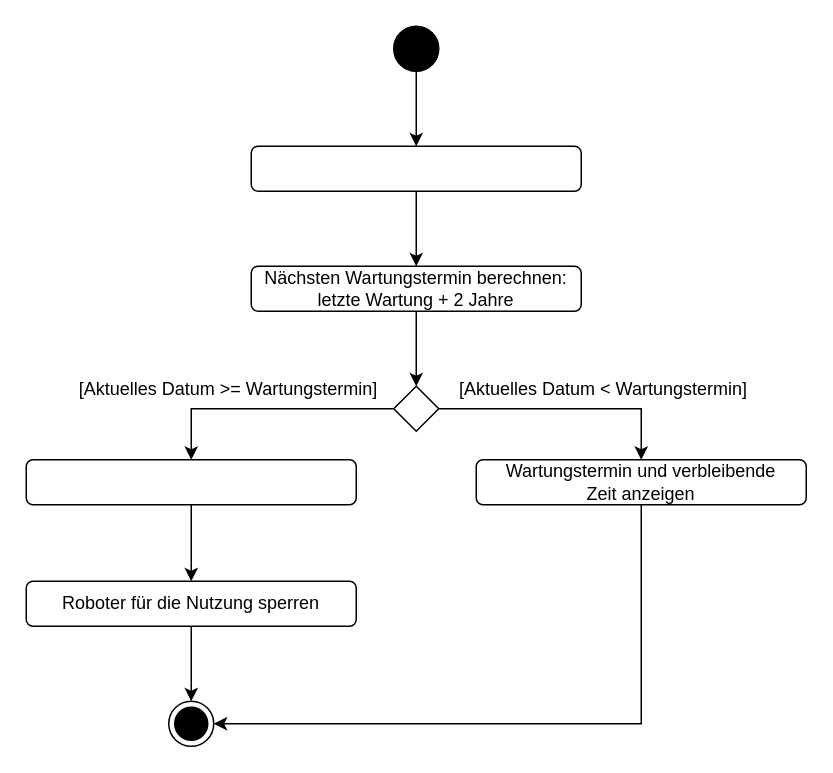
Image size: 833x773. Some labels were removed from this diagram. The centre of each missing label's shape, as x and y in pixels:
Datum der letzten Wartung einlesen: point 415,168
Wartungsmeldung anzeigen: point 190,481
